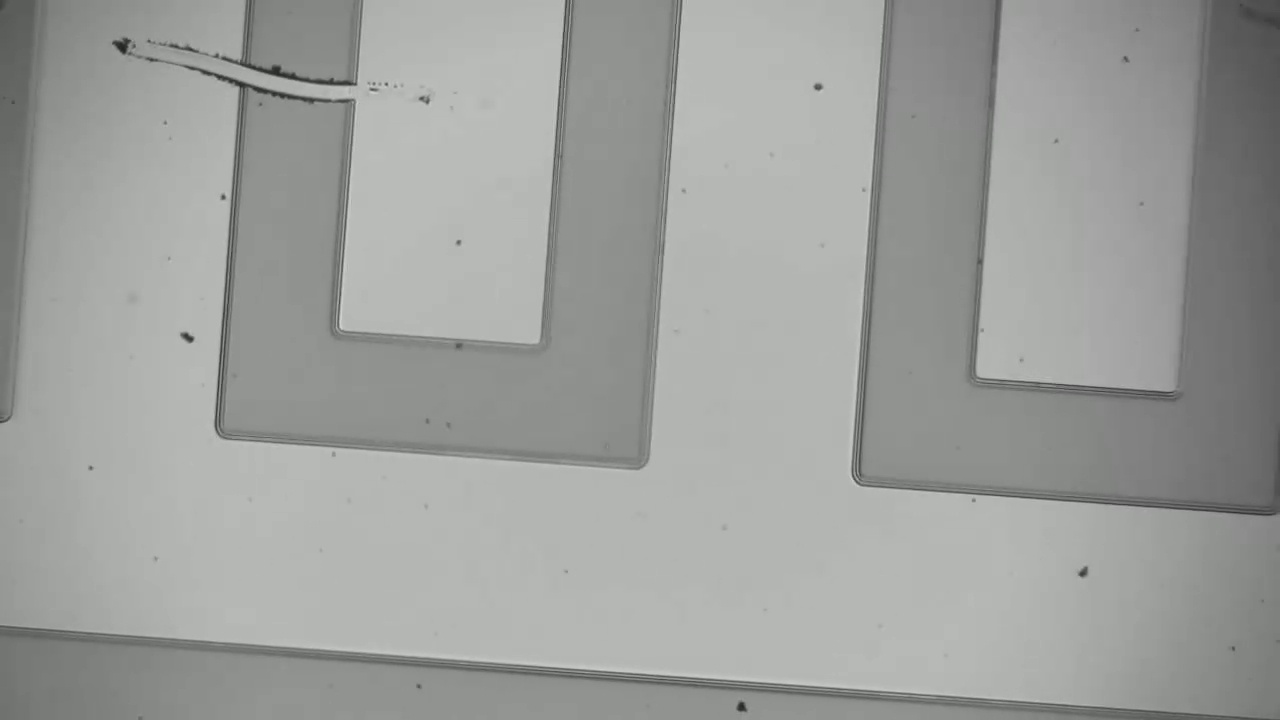Short_circuit: (222, 36, 391, 128)
